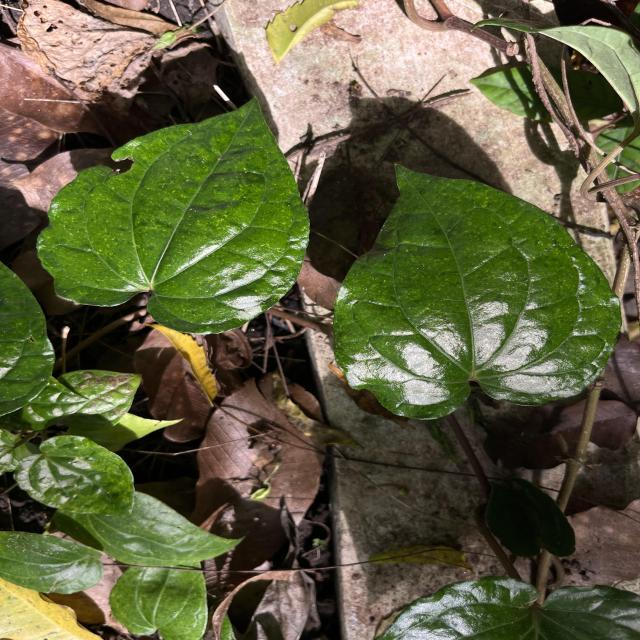Piper betle: (328, 160, 626, 422), (32, 93, 314, 340)
